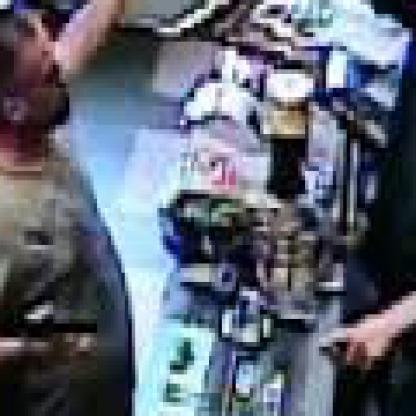gun: (160, 0, 250, 60)
